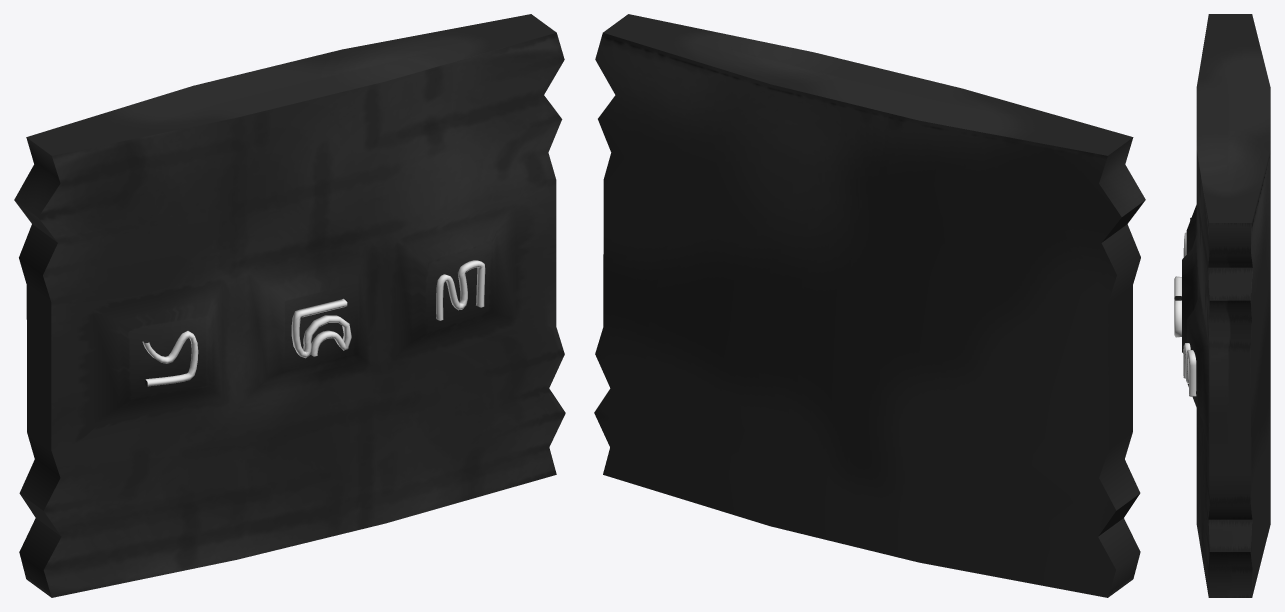
Rendered from Portaofbx.fbx.
The picture shows the model from 3 angles, left to right: view 1: azimuth 30°, elevation 25°; view 2: azimuth 150°, elevation 25°; view 3: azimuth 270°, elevation 25°; orthographic projection. The views are drawn at different scales.
Visible parts, largest first — view 1: Portao, Artefacts.002; view 2: Portao; view 3: Portao, Artefacts.002.
Part boxes in pixels (box(x1,y1,x2,y2)): Portao: box(14, 14, 565, 597); Artefacts.002: box(142, 260, 485, 386); Portao: box(594, 14, 1145, 597); Portao: box(1174, 14, 1270, 597); Artefacts.002: box(1174, 219, 1196, 396).
Bounding box in the file's own units: 1101 × 881 × 205.
